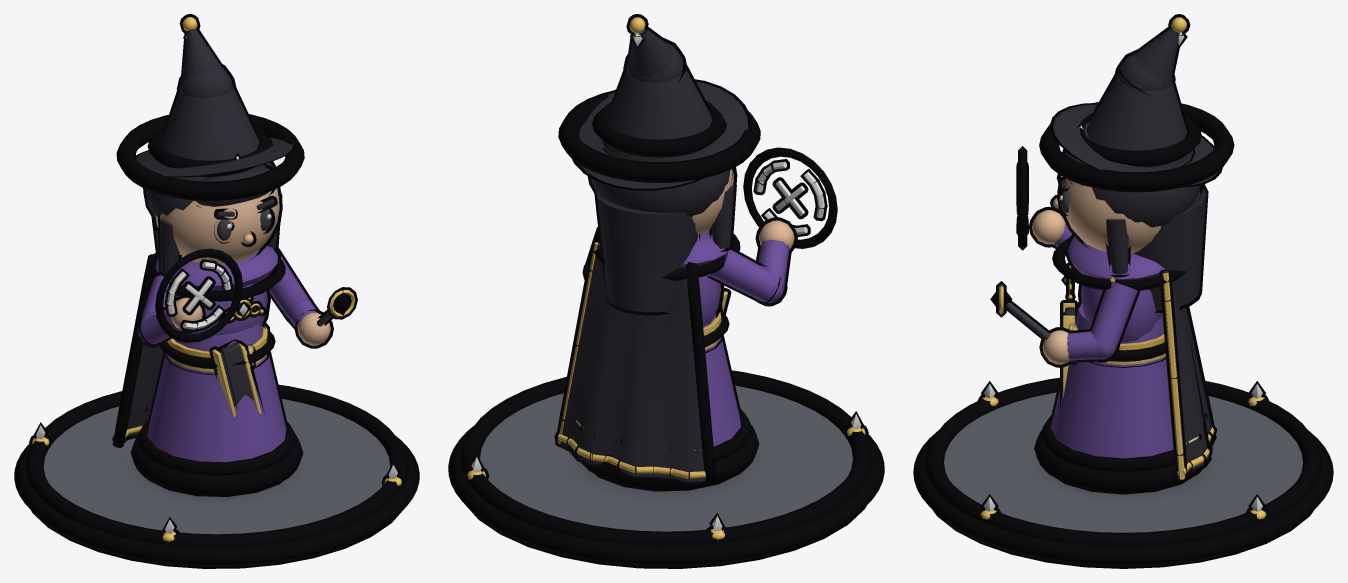
File: hexer_s4.fbx
3 views of the same model, side by side, from view 1: azimuth 30°, elevation 25°; view 2: azimuth 150°, elevation 25°; view 3: azimuth 270°, elevation 25° (orthographic). The views are drawn at different scales.
Parts seen in each view (by area): view 1: hexer_s4; view 2: hexer_s4; view 3: hexer_s4.
Boxes of the visible parts, bbox=[...] form: hexer_s4: bbox=[14, 14, 419, 568]; hexer_s4: bbox=[448, 14, 884, 568]; hexer_s4: bbox=[913, 14, 1333, 568].
Bounding box in the file's own units: 1.58 × 1.95 × 1.58.
Materials: 2 (1 with a texture image).
